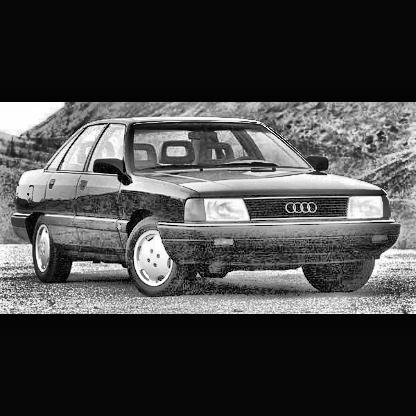Audi 100 Sedan 1994: (12, 119, 403, 297)
